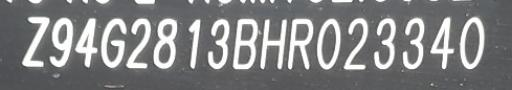letter: (20, 14, 50, 66), (458, 15, 486, 69), (285, 16, 313, 68), (99, 16, 127, 68), (232, 16, 260, 68), (259, 17, 287, 69), (400, 15, 426, 71), (372, 15, 398, 69), (342, 16, 368, 70), (428, 15, 454, 68), (125, 16, 151, 68), (152, 17, 178, 68), (206, 16, 230, 70), (316, 16, 340, 70), (49, 16, 73, 68), (74, 16, 98, 68), (186, 17, 202, 68)
